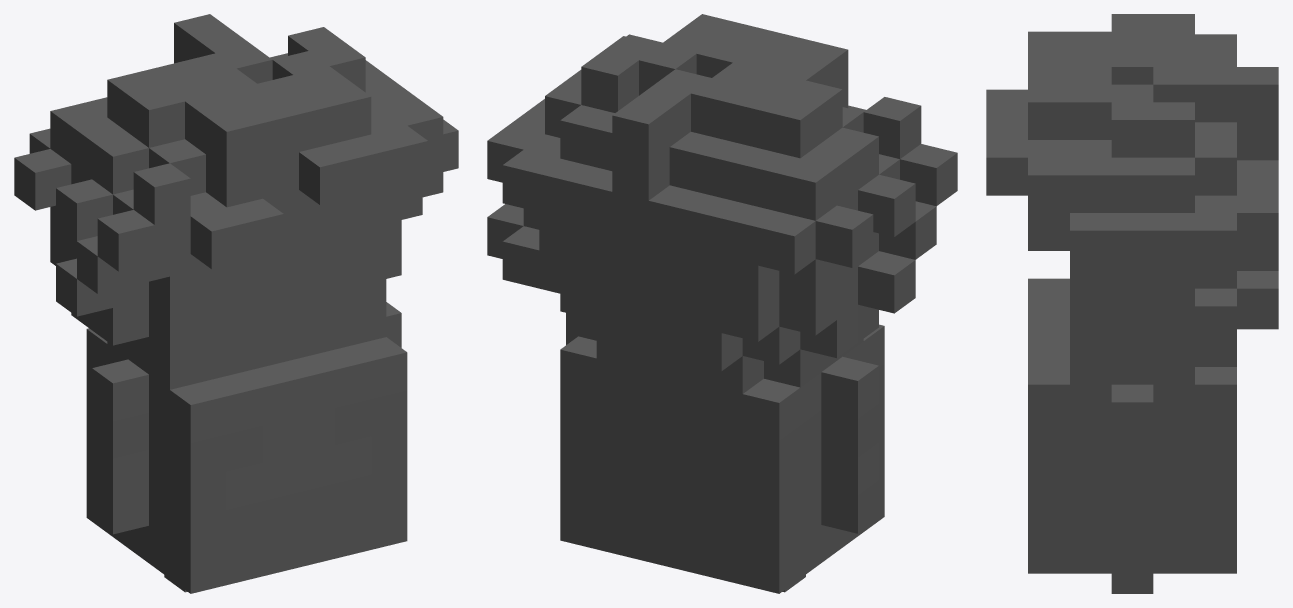
File: chr_sports3.obj
The picture shows the model from 3 angles, left to right: view 1: azimuth 30°, elevation 25°; view 2: azimuth 150°, elevation 25°; view 3: azimuth 270°, elevation 25°; orthographic projection.
Bounding box in the file's own units: 10 × 13 × 7.
